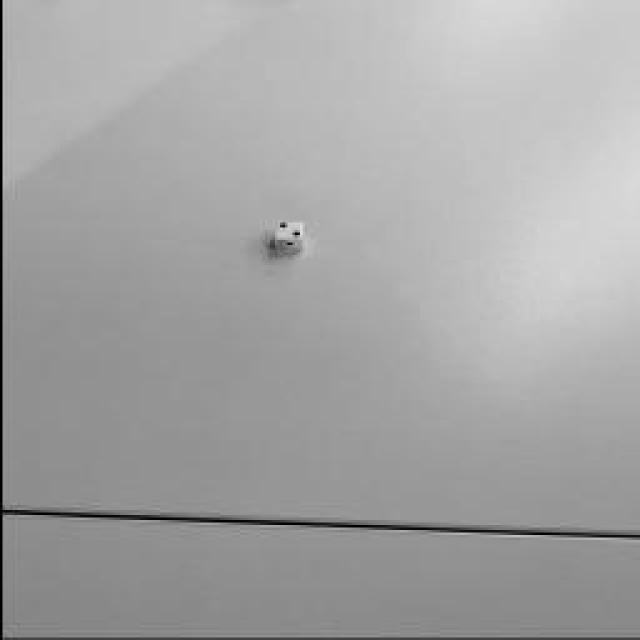dice_2: (272, 224, 300, 238)
